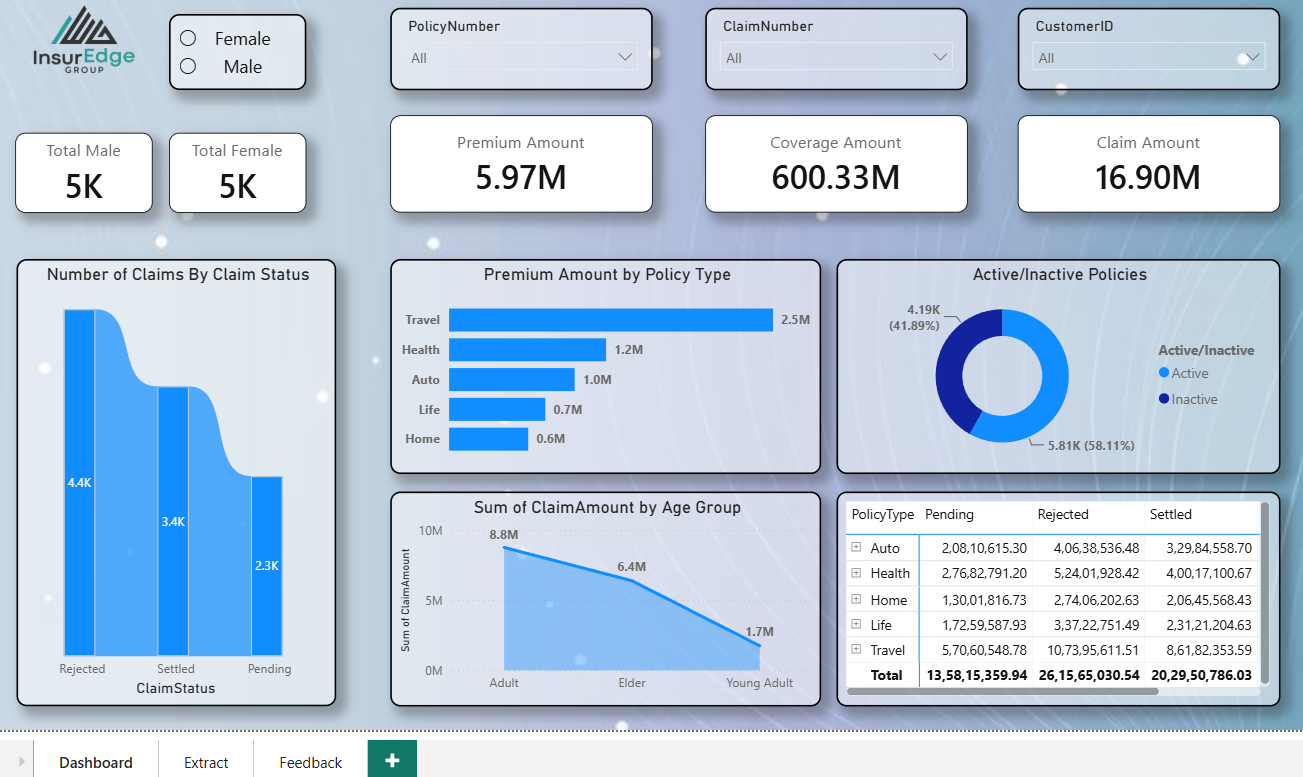

What the dashboard file says about the page in this screenshot:
{"tool":"powerbi","page":{"name":"Dashboard","canvas":[1280,720],"ordinal":0},"visuals":[{"type":"image","box":[0,0,1280.3,720.2],"z":0},{"type":"slicer","fields":{"Values":["InsuranceData.PolicyNumber"]},"box":[382.7,13.5,256.8,80.7],"z":1000},{"type":"slicer","fields":{"Values":["InsuranceData.ClaimNumber"]},"box":[690.9,13.5,256.8,80.7],"z":2000},{"type":"slicer","fields":{"Values":["InsuranceData.CustomerID"]},"box":[996.6,13.5,256.8,80.7],"z":3000},{"type":"image","box":[0,0,166.3,107.6],"z":4000},{"type":"cardVisual","fields":{"Data":["Sum(InsuranceData.PremiumAmount)"]},"box":[382.7,118.6,256.8,95.4],"z":5000},{"type":"cardVisual","fields":{"Data":["Sum(InsuranceData.CoverageAmount)"]},"box":[690.9,118.6,256.8,95.4],"z":6000},{"type":"cardVisual","fields":{"Data":["Sum(InsuranceData.ClaimAmount)"]},"box":[996.6,118.6,256.8,95.4],"z":7000},{"type":"cardVisual","fields":{"Data":["InsuranceData.Male Count"]},"box":[15.9,135.7,134.5,78.3],"z":8000},{"type":"cardVisual","fields":{"Data":["InsuranceData.Female Count"]},"box":[166.3,135.7,134.5,78.3],"z":9000},{"type":"listSlicer","fields":{"Values":["InsuranceData.Gender"]},"box":[166.3,19.6,134.5,74.6],"z":10000},{"type":"ribbonChart","title":"Number of Claims By Claim Status","fields":{"Category":["InsuranceData.ClaimStatus"],"Y":["CountNonNull(InsuranceData.ClaimStatus)"]},"box":[17.1,259.2,313,437.8],"z":11000},{"type":"barChart","title":"Premium Amount by Policy Type","fields":{"Category":["InsuranceData.PolicyType"],"Y":["Sum(InsuranceData.PremiumAmount)"]},"box":[382.7,259.2,421.9,210.3],"z":12000},{"type":"lineChart","fields":{"Category":["InsuranceData.Age Group"],"Y":["Sum(InsuranceData.ClaimAmount)"]},"box":[382.7,486.7,421.9,210.3],"z":13000},{"type":"donutChart","title":"Active/Inactive Policies","fields":{"Category":["InsuranceData.Active/Inactive"],"Y":["CountNonNull(InsuranceData.Active/Inactive)"]},"box":[819.3,259.2,434.1,210.3],"z":14000},{"type":"pivotTable","fields":{"Values":["Sum(InsuranceData.CoverageAmount)"],"Rows":["InsuranceData.PolicyType","InsuranceData.Gender"],"Columns":["InsuranceData.ClaimStatus"]},"box":[819.3,486.7,434.1,210.3],"z":15000}]}

Visuals, with their boxes on the page's 1280x720 design canvas (x1, y1, x2, y2). These are canvas units, not pixel positions in the 1303x777 screenshot, which may show the page scaled, cropped or inside an application window:
image: 0:0:1280:720
slicer - InsuranceData.PolicyNumber: 383:14:640:94
slicer - InsuranceData.ClaimNumber: 691:14:948:94
slicer - InsuranceData.CustomerID: 997:14:1253:94
image: 0:0:166:108
cardVisual - Sum(InsuranceData.PremiumAmount): 383:119:640:214
cardVisual - Sum(InsuranceData.CoverageAmount): 691:119:948:214
cardVisual - Sum(InsuranceData.ClaimAmount): 997:119:1253:214
cardVisual - InsuranceData.Male Count: 16:136:150:214
cardVisual - InsuranceData.Female Count: 166:136:301:214
listSlicer - InsuranceData.Gender: 166:20:301:94
"Number of Claims By Claim Status" ribbonChart: 17:259:330:697
"Premium Amount by Policy Type" barChart: 383:259:805:470
lineChart - InsuranceData.Age Group x Sum(InsuranceData.ClaimAmount): 383:487:805:697
"Active/Inactive Policies" donutChart: 819:259:1253:470
pivotTable - Sum(InsuranceData.CoverageAmount) x InsuranceData.PolicyType: 819:487:1253:697
